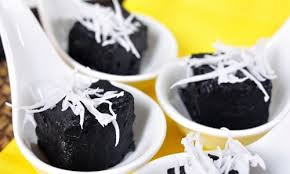kanompiakpoon: (34, 77, 147, 174), (185, 43, 279, 132), (69, 9, 154, 79)
